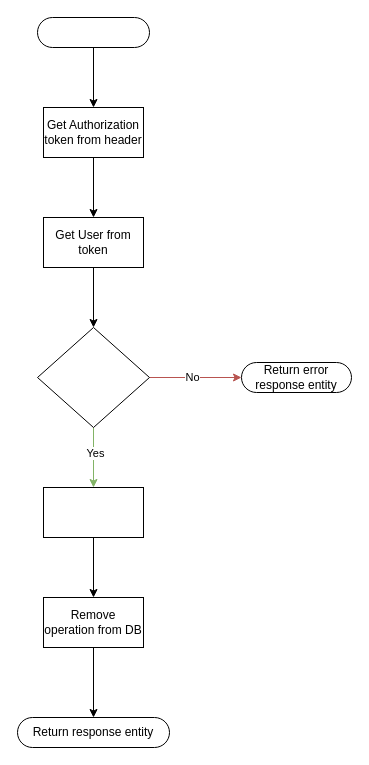
Image size: 369x765. Some labels were removed from this diagram. The shapes that lost their labels are listed below. From the top down, each one's centre as x and y in pixels, then its label:
At point (93, 32): "User clicks to remove operations".
At point (93, 377): "User is authorized to create new operation?".
At point (93, 512): "Add operation to concluded document".
